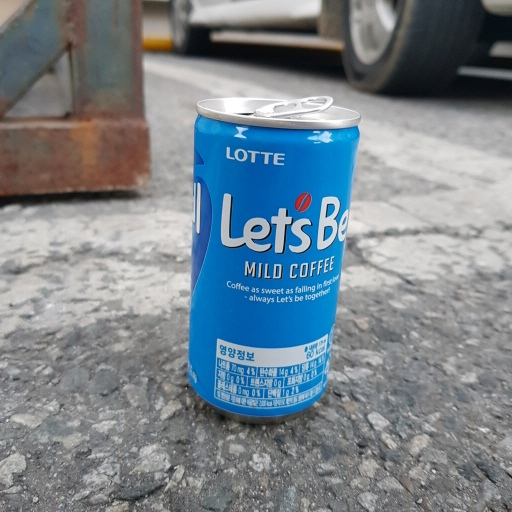Metal_0: (181, 94, 361, 424)
